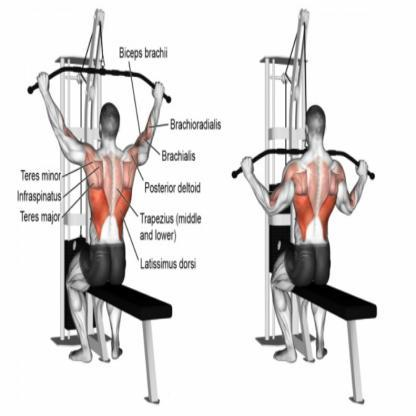Lat Pull Down: (19, 4, 217, 410), (227, 5, 399, 413)
